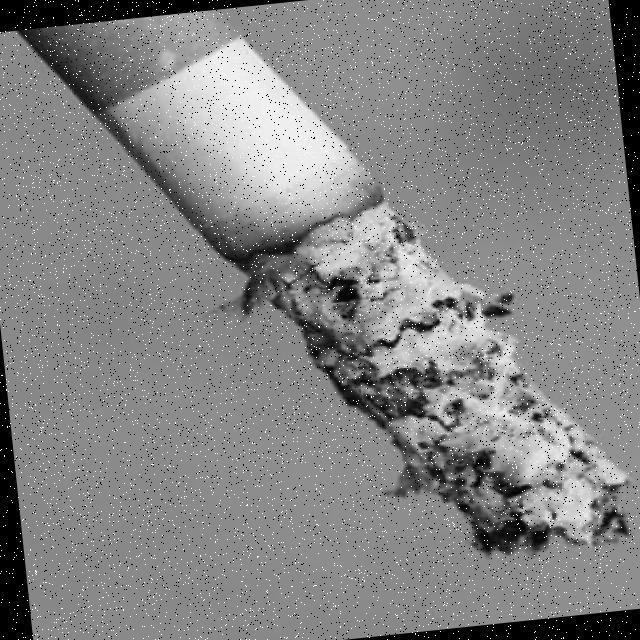cigarette: (3, 0, 640, 597)
